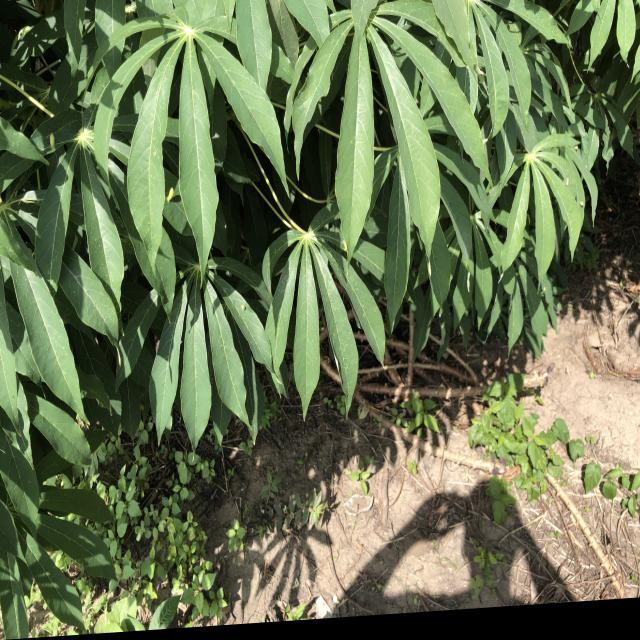Mosca: (238, 293, 258, 326), (574, 194, 591, 214)
